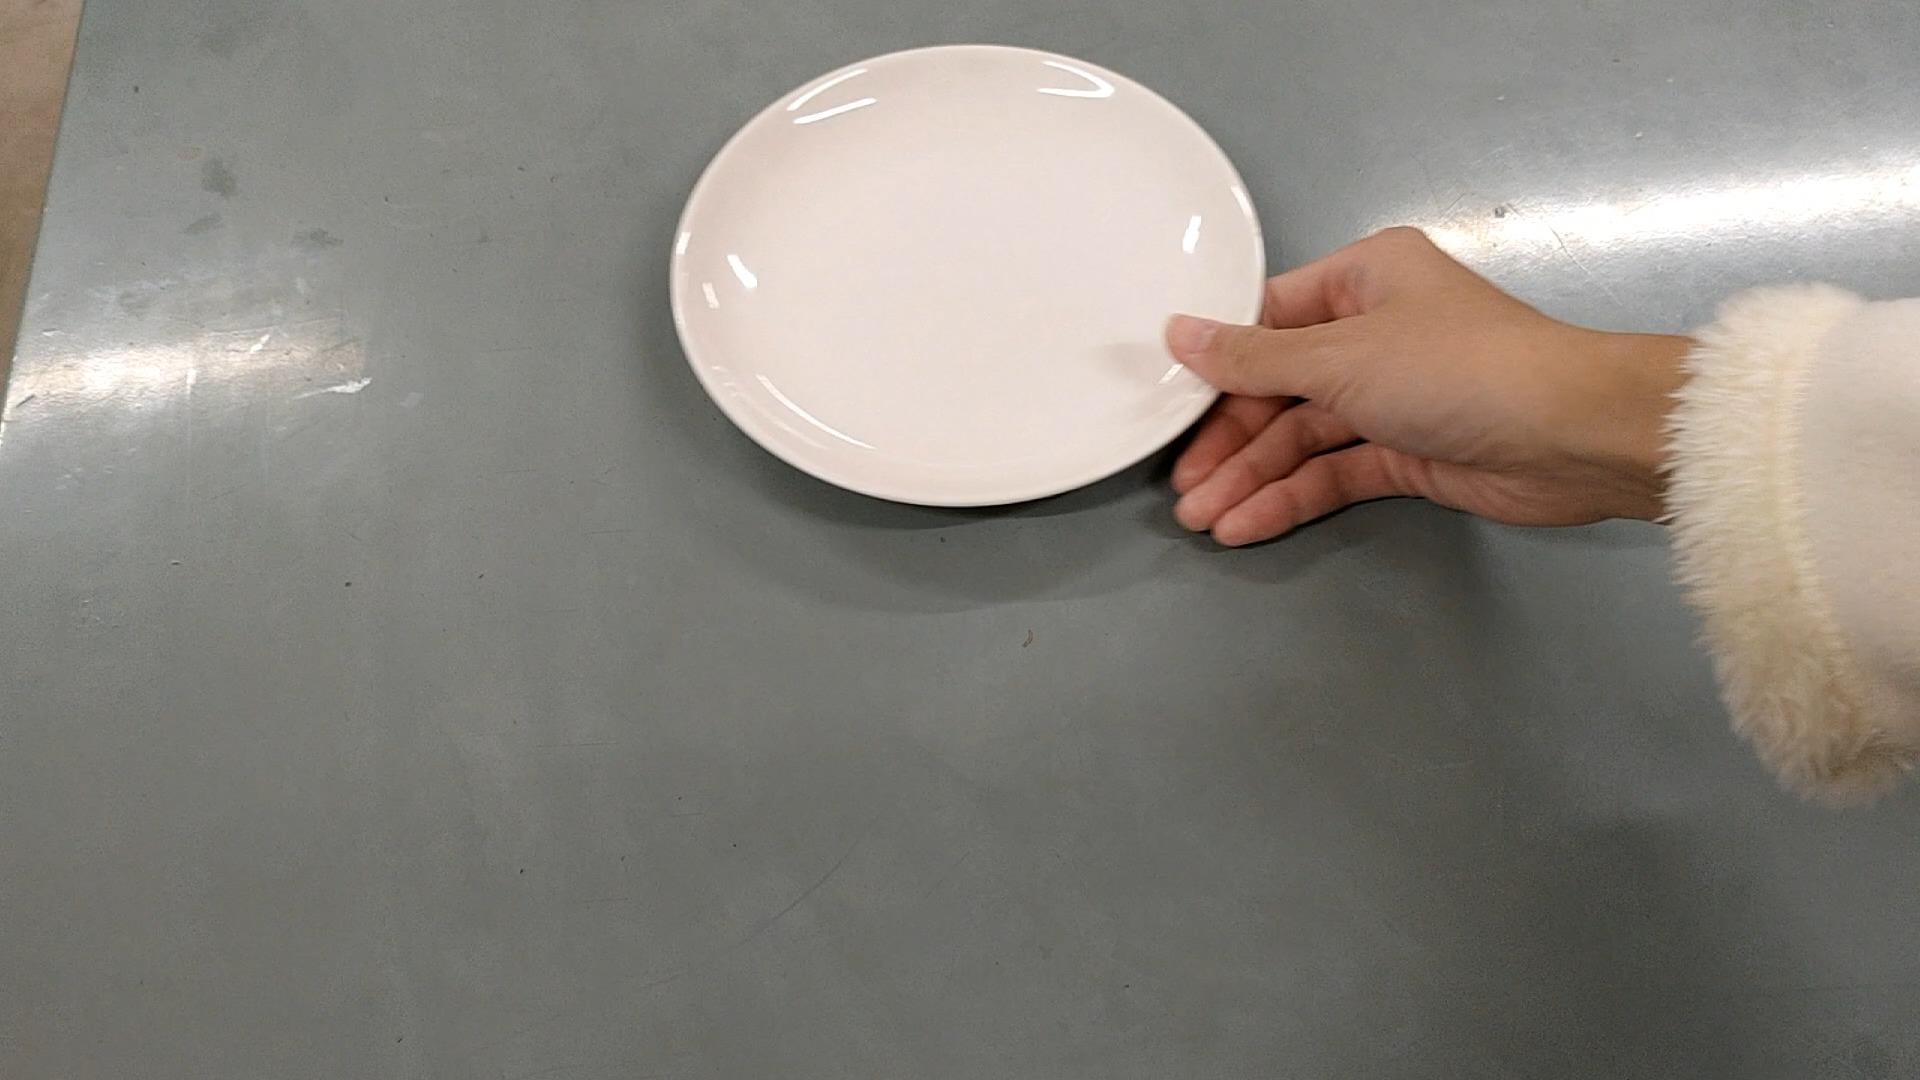plate: (673, 46, 1269, 514)
